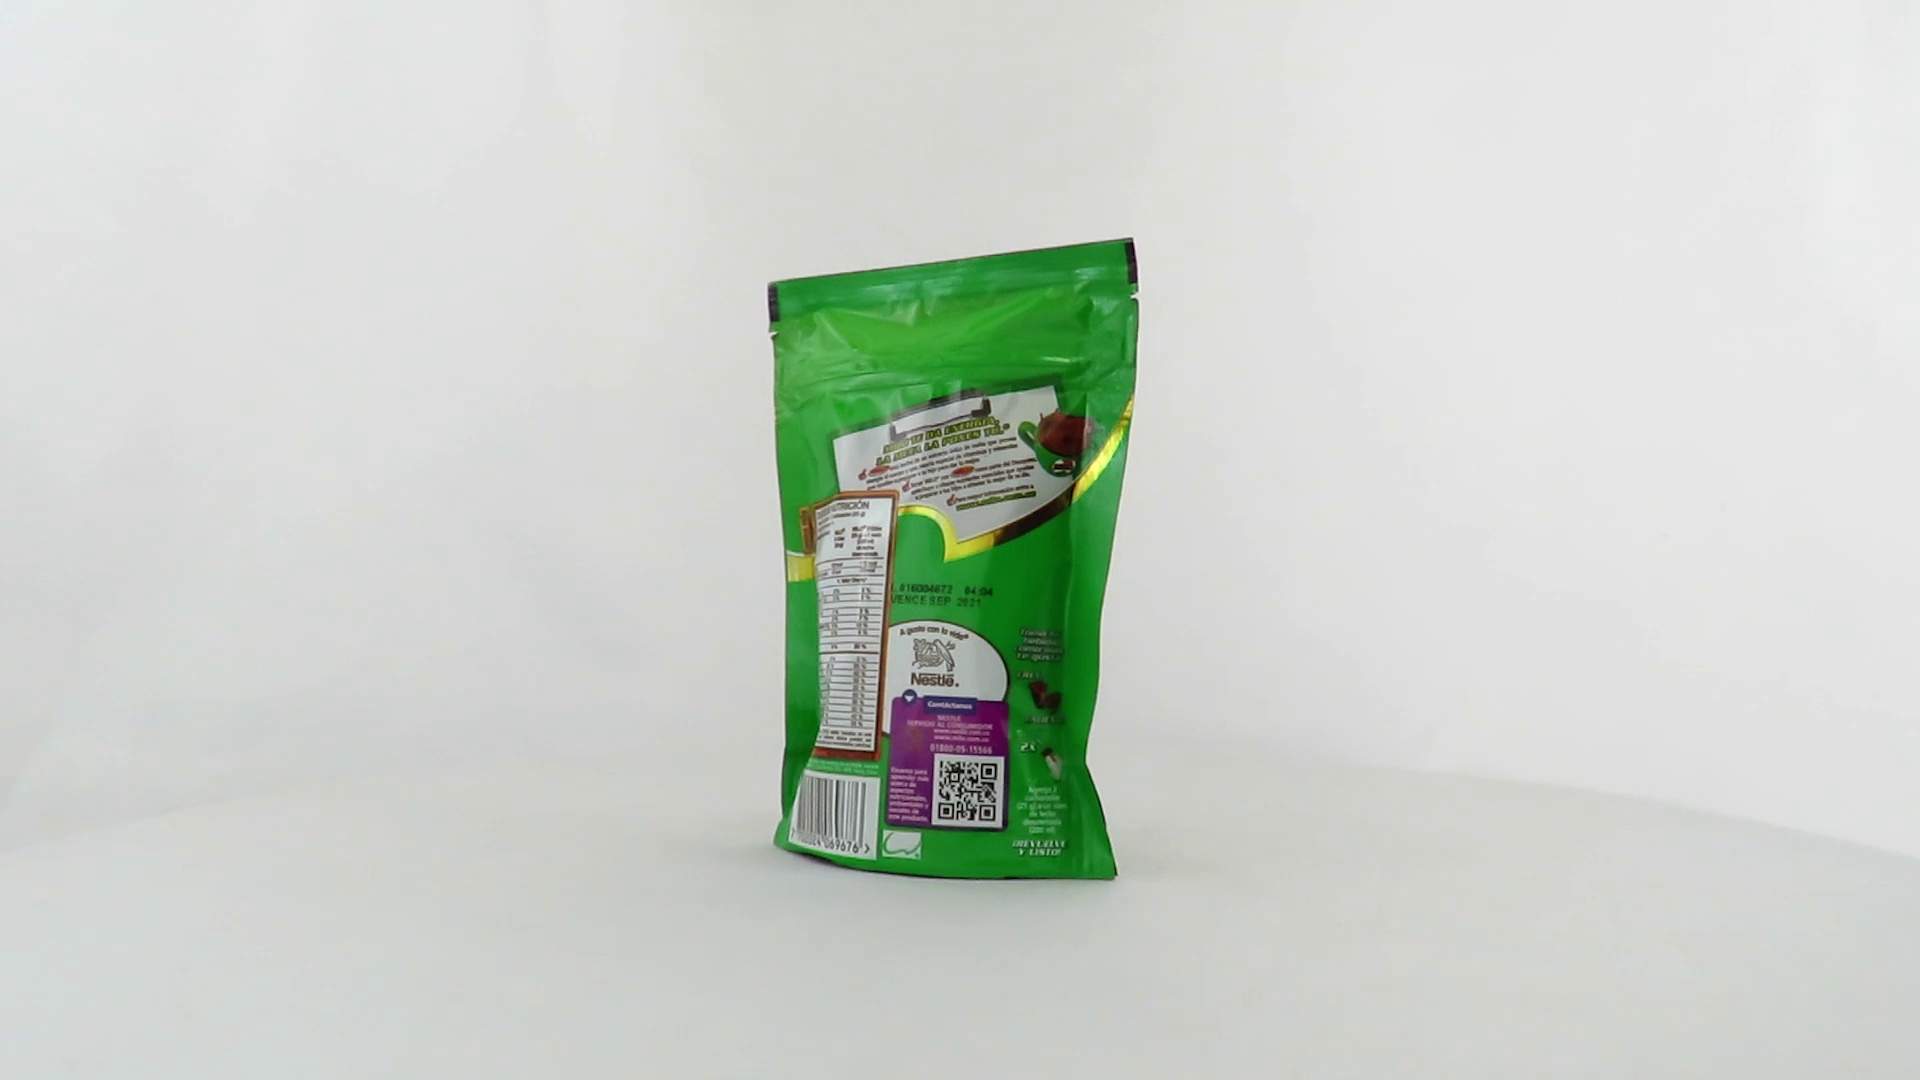COL0170203DYP10000: (762, 232, 1145, 887)
